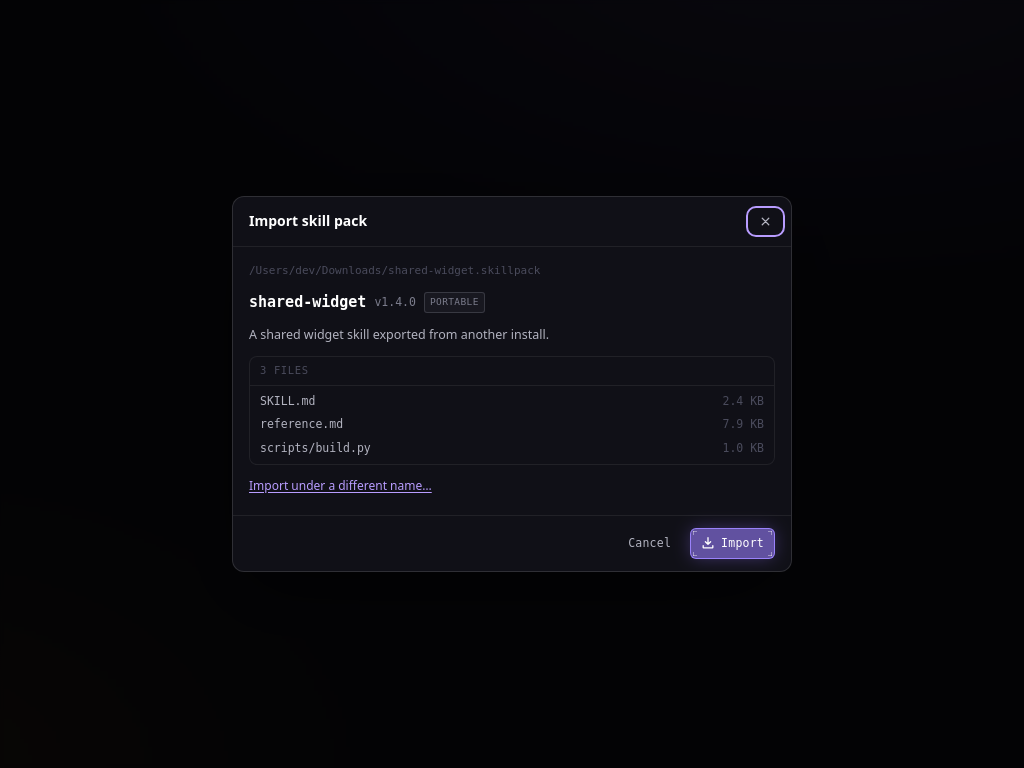
Test: ImportSkillDialog › surfaces a failed apply in-dialog and keeps the dialog open
The image size is (1024, 768).
Click the button "Import" at x=733, y=543, box [690,528,775,559]
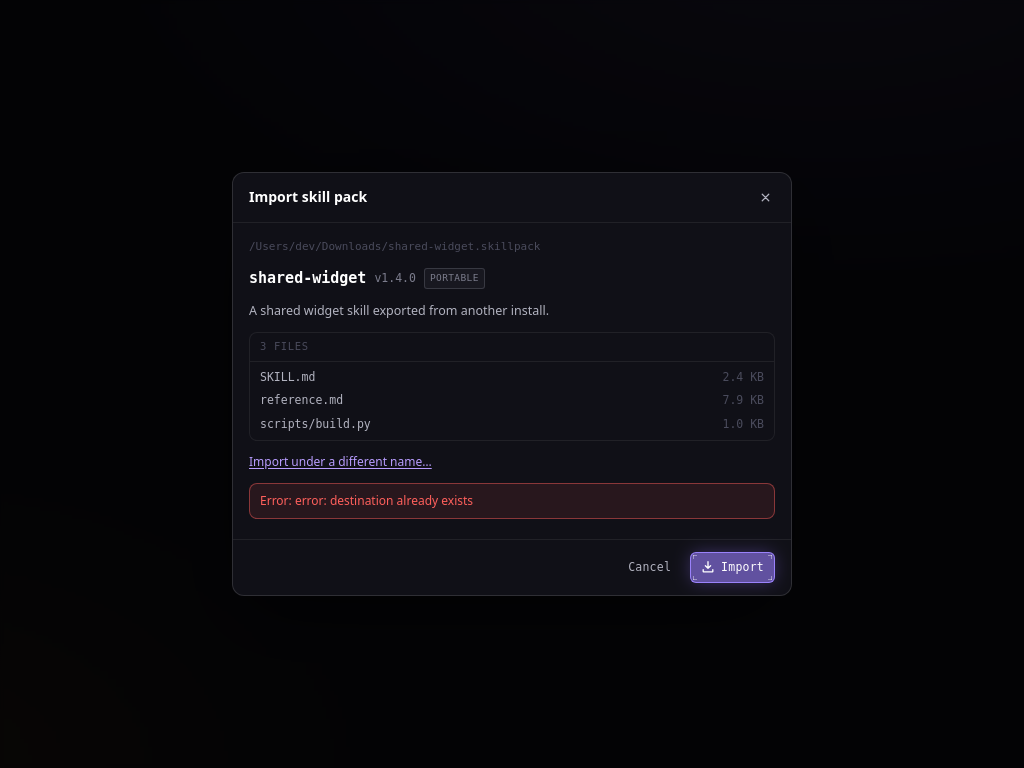
Check: the button "Import" is enabled, box [690,552,775,583]
Check: the text "Error: error: destination already exists" is shown, box [249,483,775,519]
